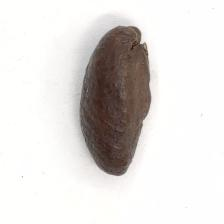NG: (82, 24, 147, 172)
